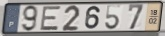2: (62, 4, 82, 32)
5: (104, 4, 124, 31)
6: (84, 5, 102, 30)
7: (127, 4, 145, 31)
9: (21, 4, 39, 33)
E: (39, 6, 63, 32)
